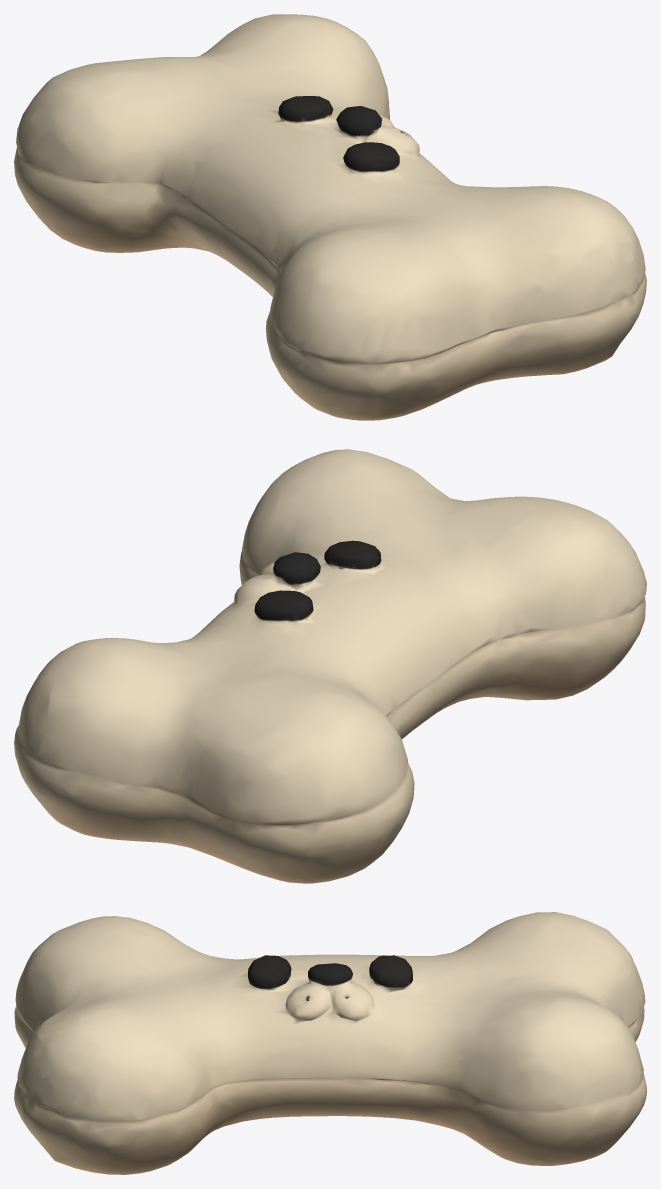
File: bone_h3.glb
3 renders of one model, top to bottom at view 1: azimuth 30°, elevation 25°; view 2: azimuth 150°, elevation 25°; view 3: azimuth 270°, elevation 25°, orthographic. The views are drawn at different scales.
Visible parts, largest first — view 1: tripo_node_c6d0ac3c-091a-4e6e-986c-7f25c72fe21b; view 2: tripo_node_c6d0ac3c-091a-4e6e-986c-7f25c72fe21b; view 3: tripo_node_c6d0ac3c-091a-4e6e-986c-7f25c72fe21b.
Boxes of the visible parts, box(x1,y1,x2,y2) form: tripo_node_c6d0ac3c-091a-4e6e-986c-7f25c72fe21b: box(14, 14, 646, 420); tripo_node_c6d0ac3c-091a-4e6e-986c-7f25c72fe21b: box(14, 449, 646, 883); tripo_node_c6d0ac3c-091a-4e6e-986c-7f25c72fe21b: box(14, 912, 646, 1174).
Size of the model in its own units: 0.626 by 0.2955 by 1.
Materials: 1 (1 with a texture image).
